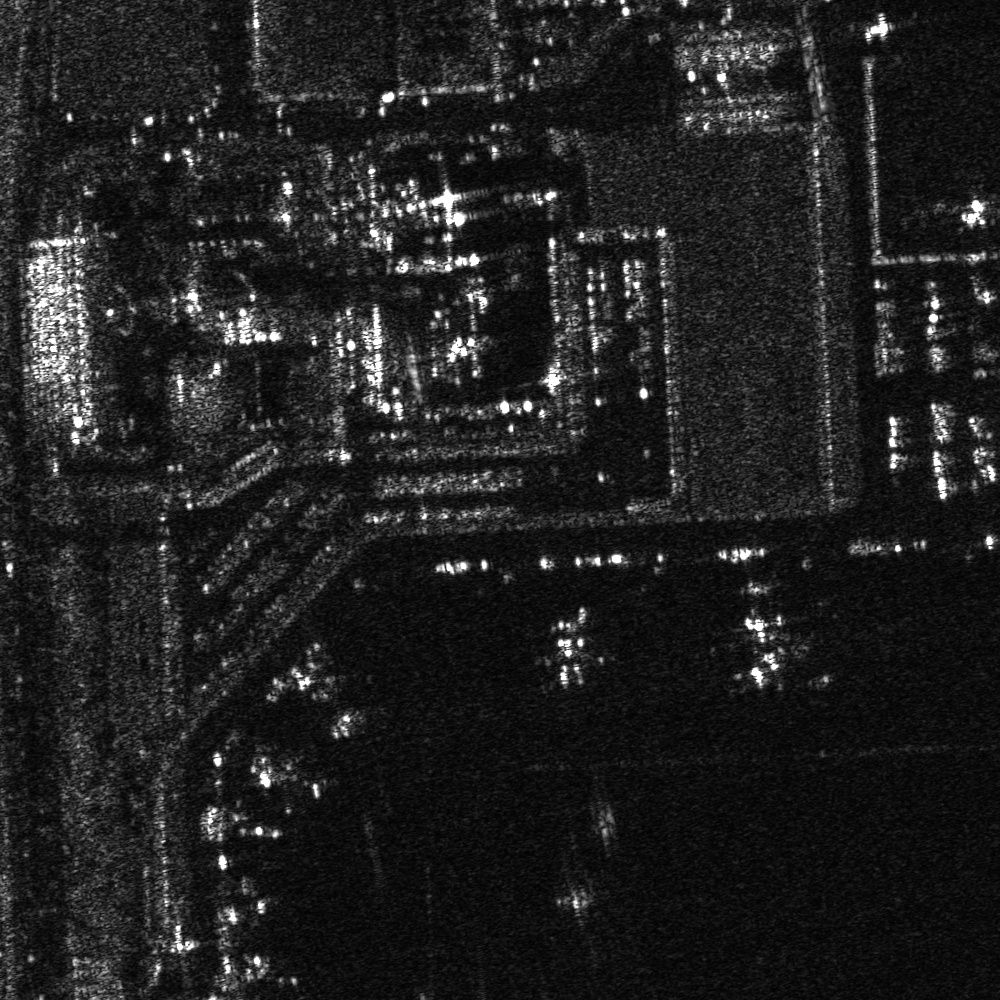A220: (293, 663, 384, 745), (243, 744, 340, 820)
Boeing737: (529, 608, 620, 692)
other: (720, 607, 815, 697)
